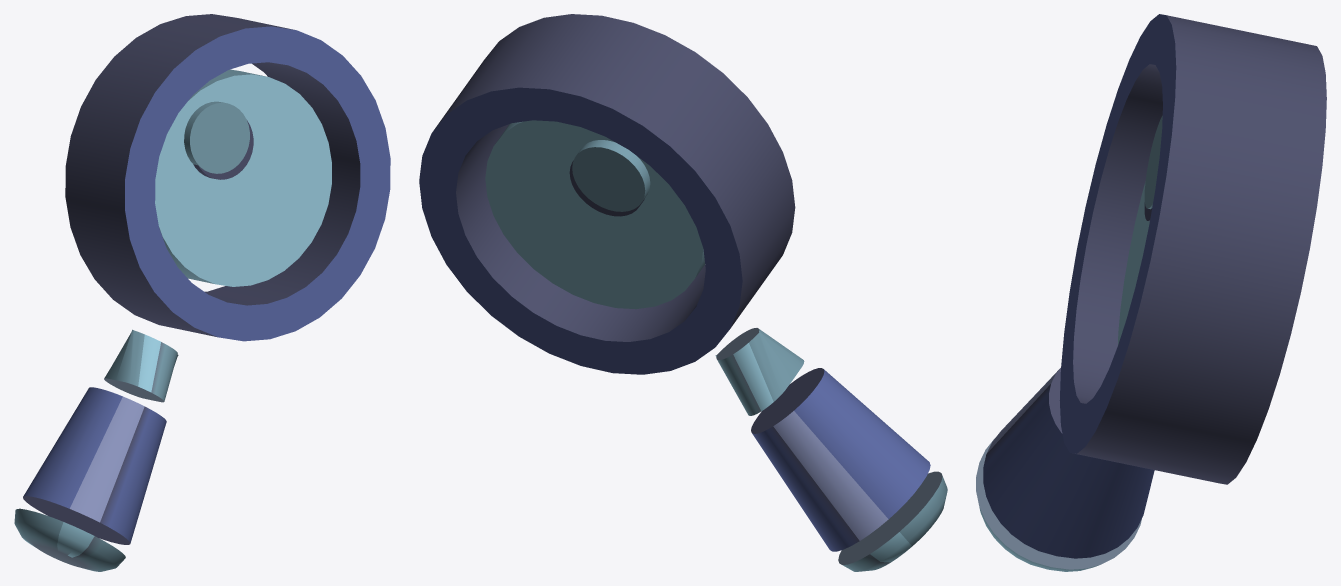
Rendered from tool_zoom.glb.
The picture shows the model from 3 angles, left to right: view 1: azimuth 30°, elevation 25°; view 2: azimuth 150°, elevation 25°; view 3: azimuth 270°, elevation 25°; orthographic projection. The views are drawn at different scales.
Parts seen in each view (by area): view 1: Zoom; view 2: Zoom; view 3: Zoom.
Boxes of the visible parts, box(x1,y1,x2,y2) form: Zoom: box(14, 14, 390, 571); Zoom: box(419, 14, 947, 571); Zoom: box(976, 14, 1326, 571).
Size of the model in its own units: 4.03 by 4.6 by 2.22.
